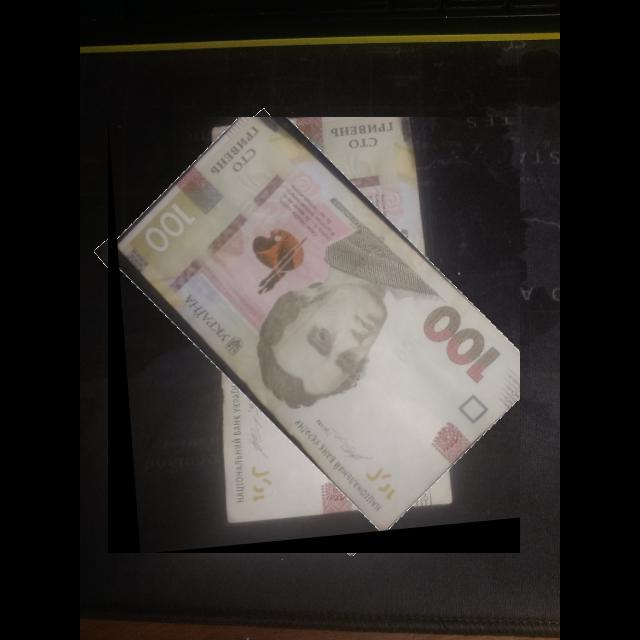100uah: (116, 117, 521, 536)
